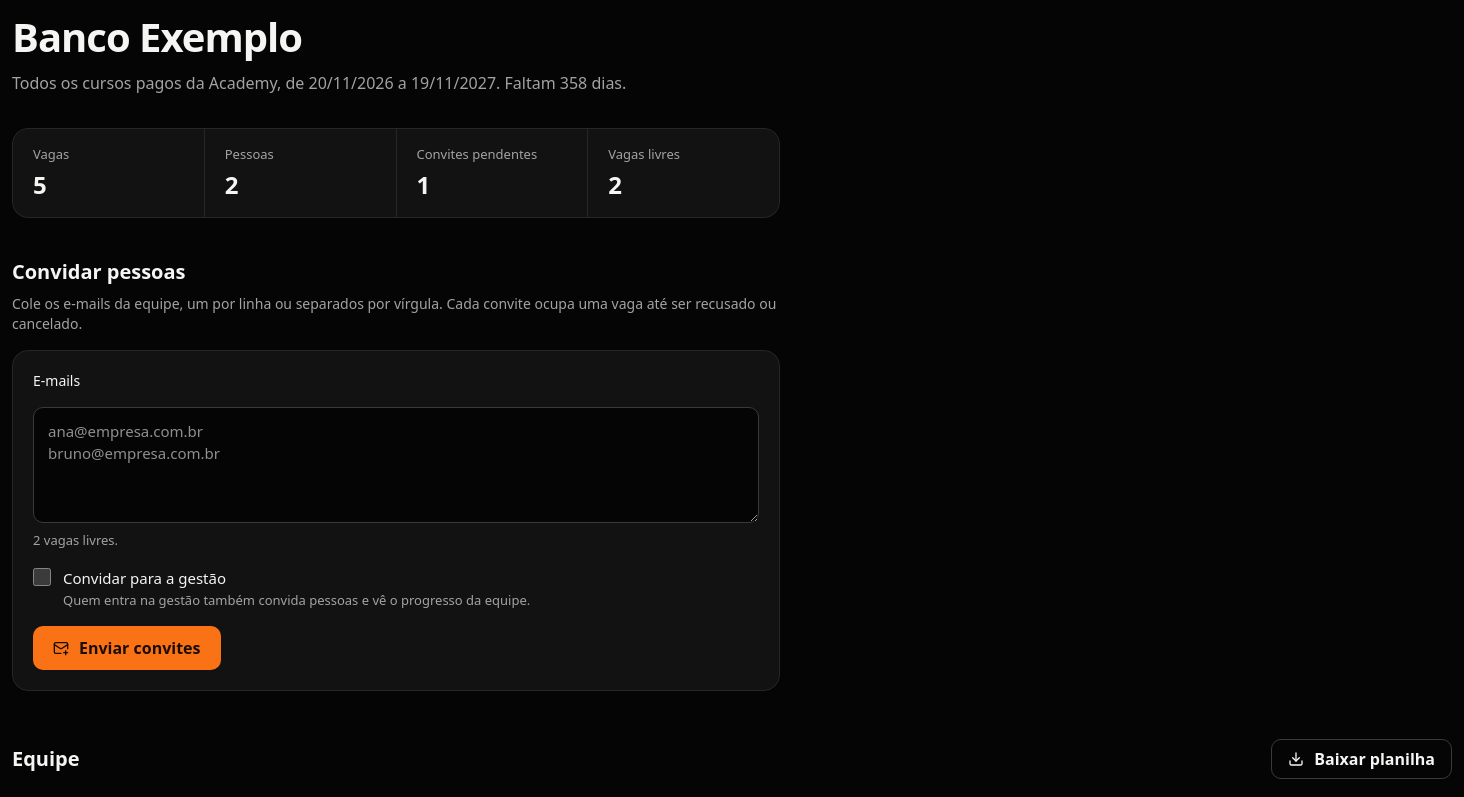
Test: painel da gestora › e-mail inválido não vai ao banco; e-mail que não sai vira convite registrado
Type "dani@banco" into the text box labelled "E-mails" at (396, 464), box [33,406,759,522]
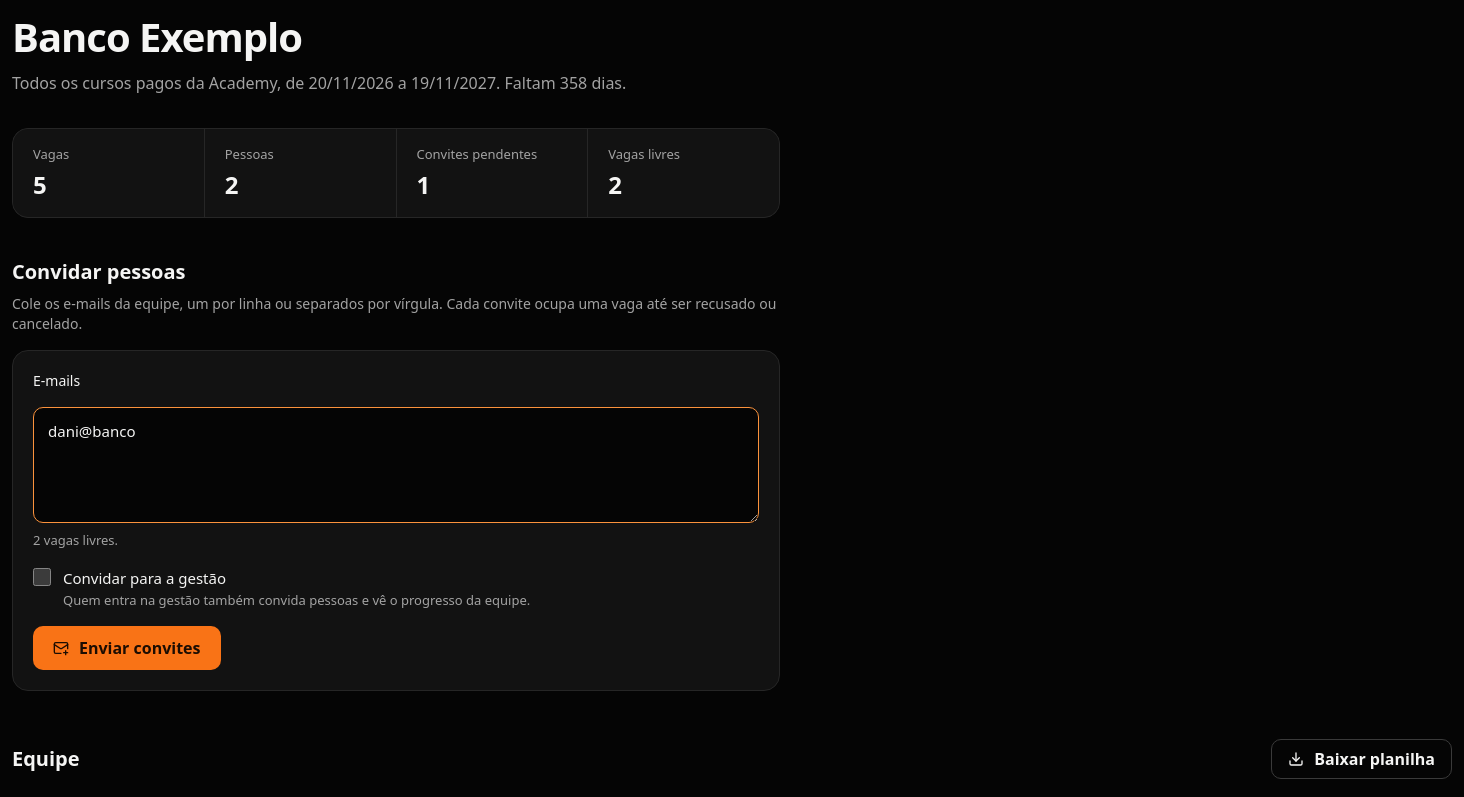
Click the button "Enviar convites" at (127, 648), box [33,626,220,670]
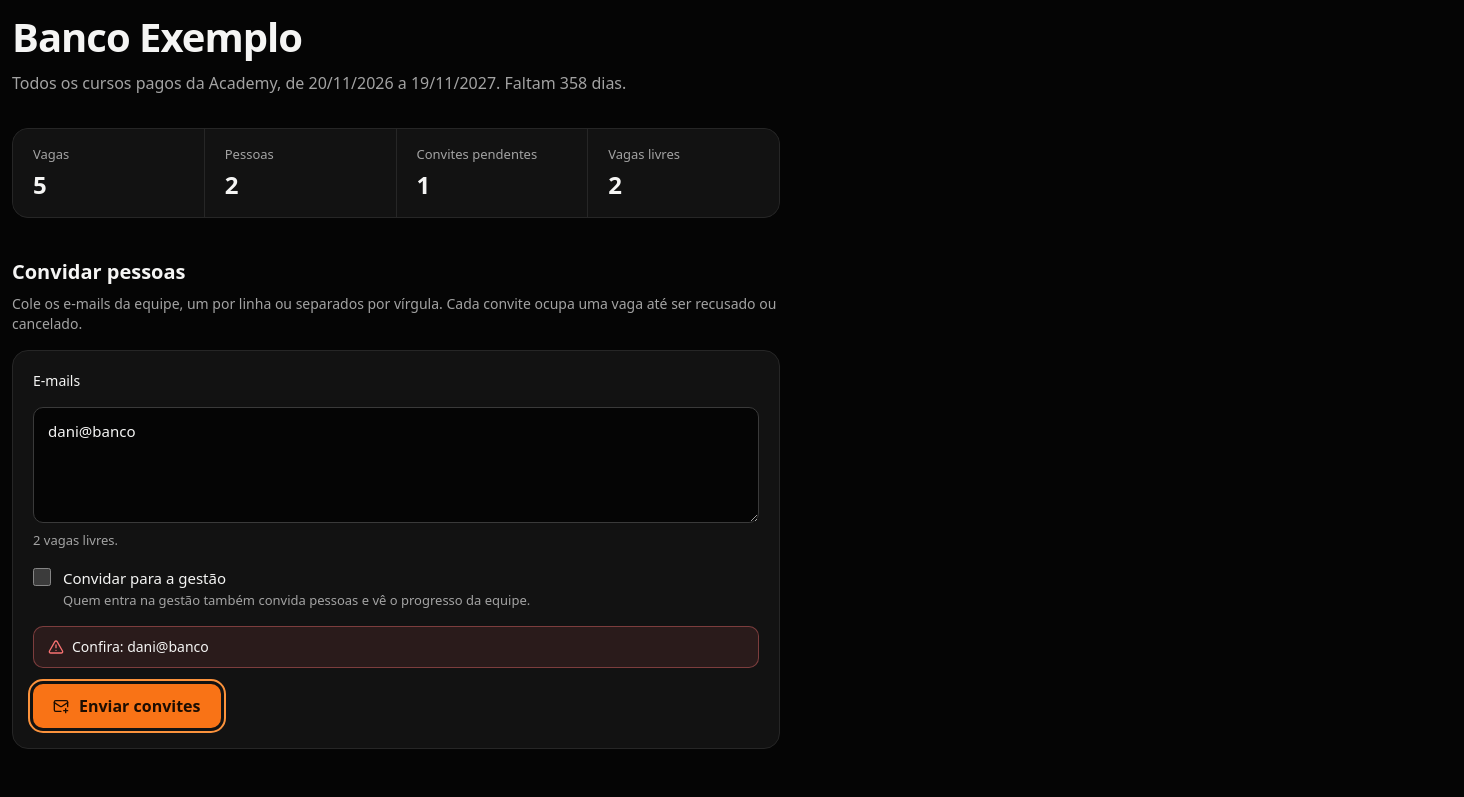
Check: the message reads "Confira: dani@banco", box [72,637,209,656]
Replace the text in the text box labelled "E-mails" with "dani@banco.com" at (396, 464), box [33,406,759,522]
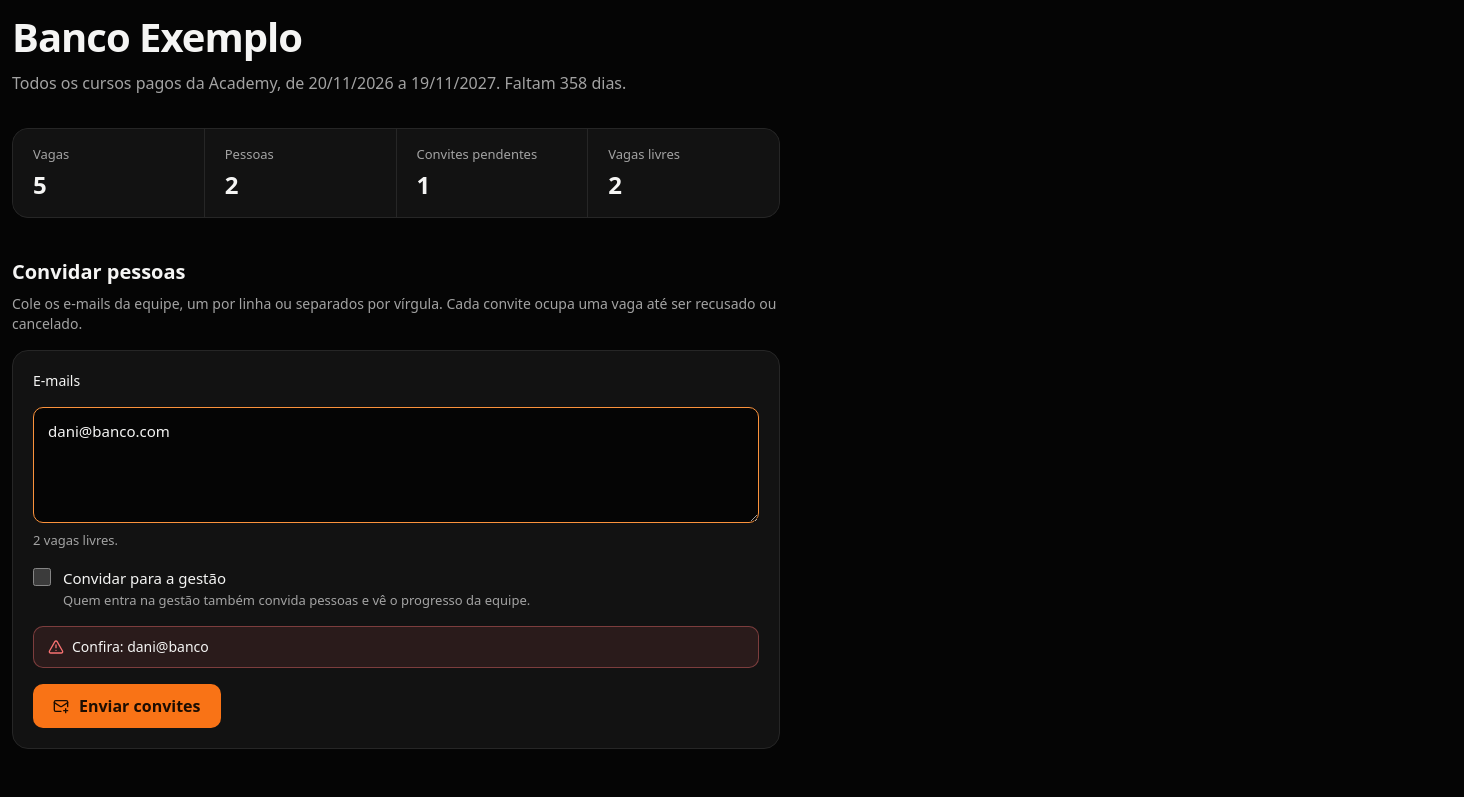
Click the button "Enviar convites" at (127, 706), box [33,684,220,728]
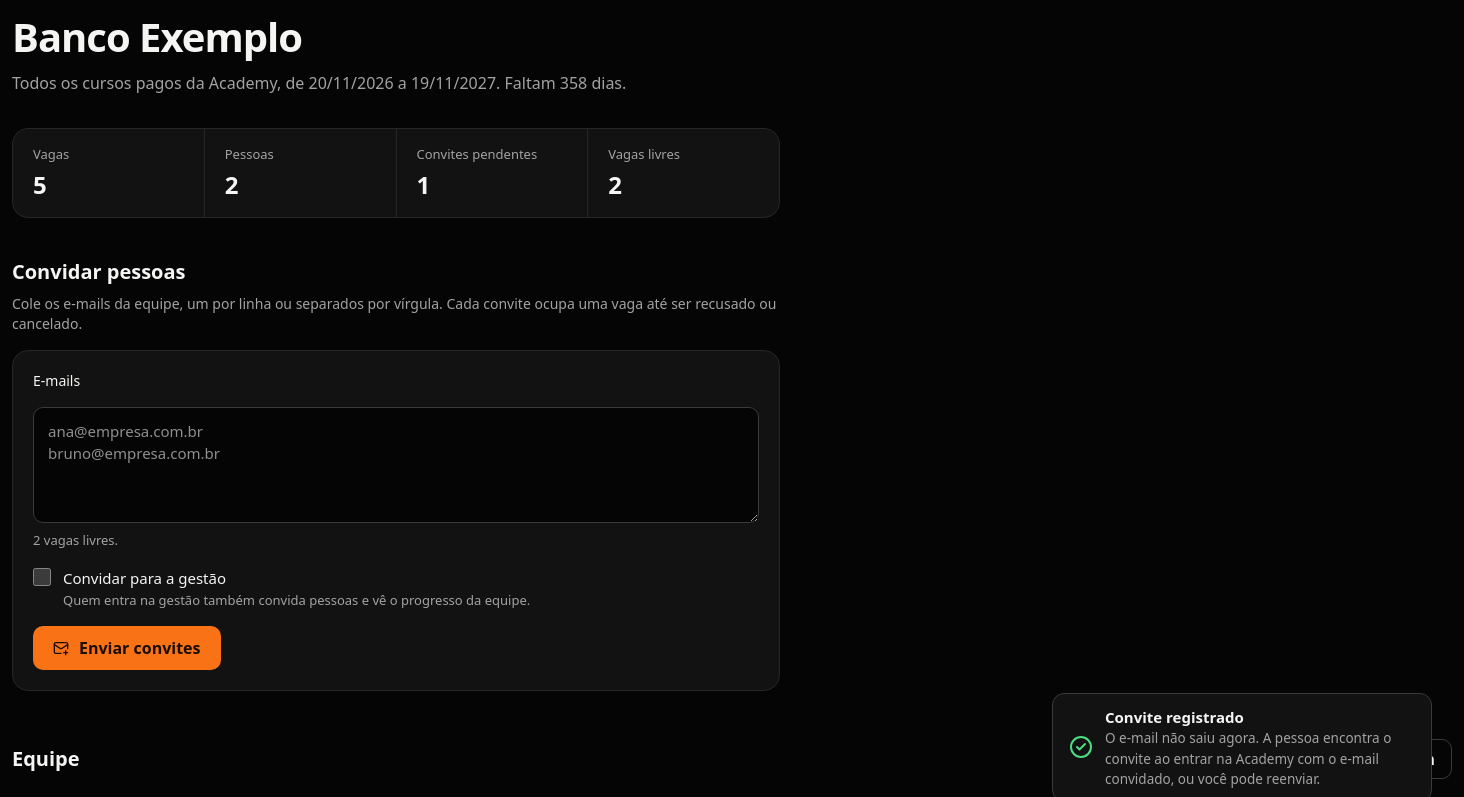
Check: the text "Convite registrado" is shown, box [1105,707,1244,727]
